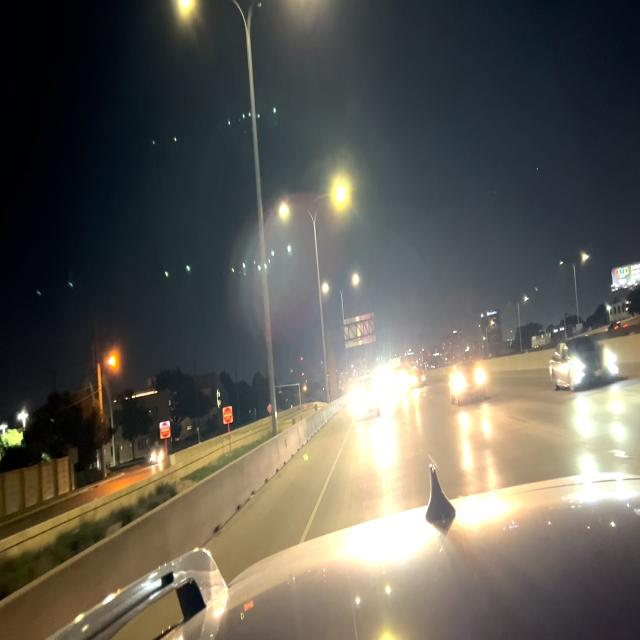back-of-sign: (344, 311, 377, 352)
